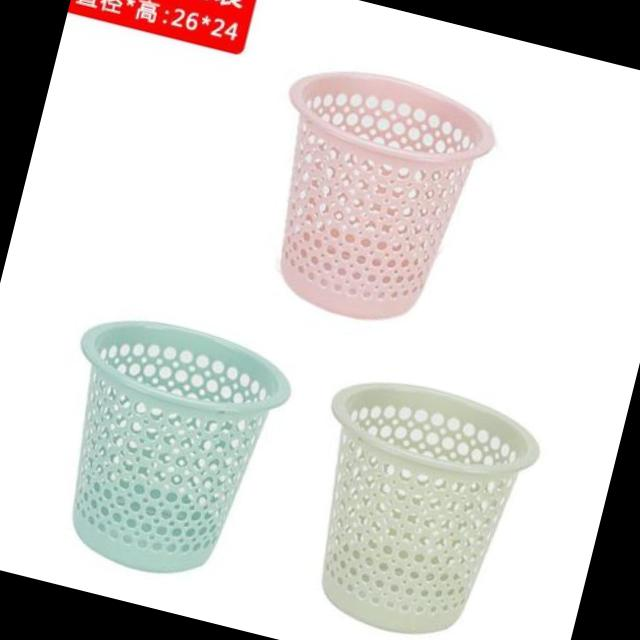dustbin: (233, 42, 510, 348), (30, 296, 308, 600), (276, 352, 552, 640)
